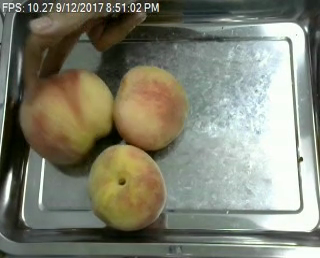Peach: (21, 67, 114, 165), (87, 144, 165, 231), (114, 65, 189, 150)
